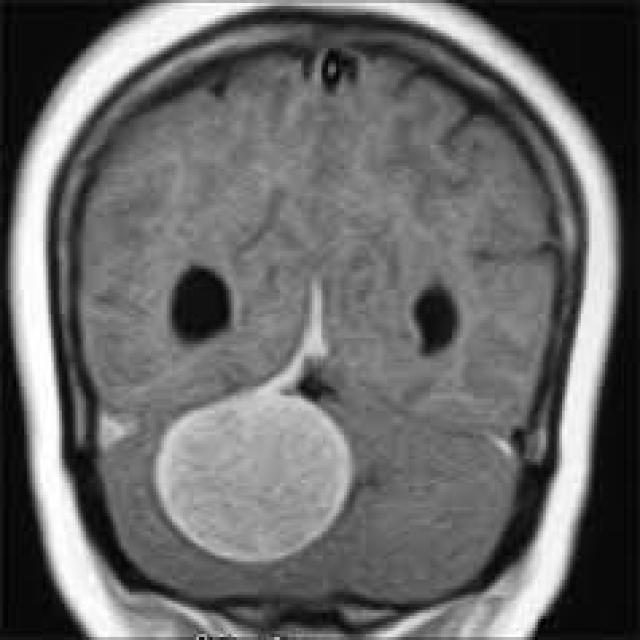Tumor: (158, 396, 358, 564), (272, 278, 328, 395)
